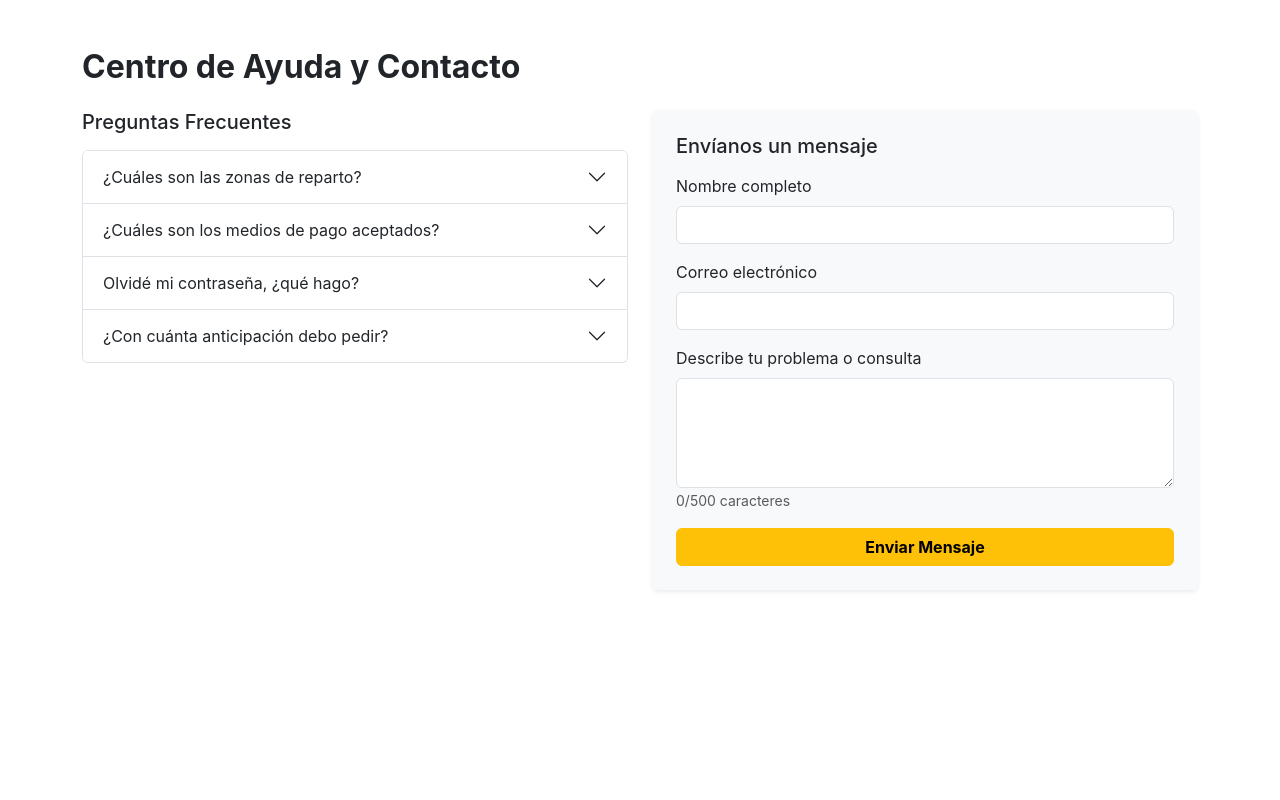
Contact - eventos de envío › al enviar datos válidos se muestra la confirmación y se limpia el formulario
Type "María Pérez" into the field labelled "Nombre completo" at [925, 225], box [676, 206, 1174, 244]
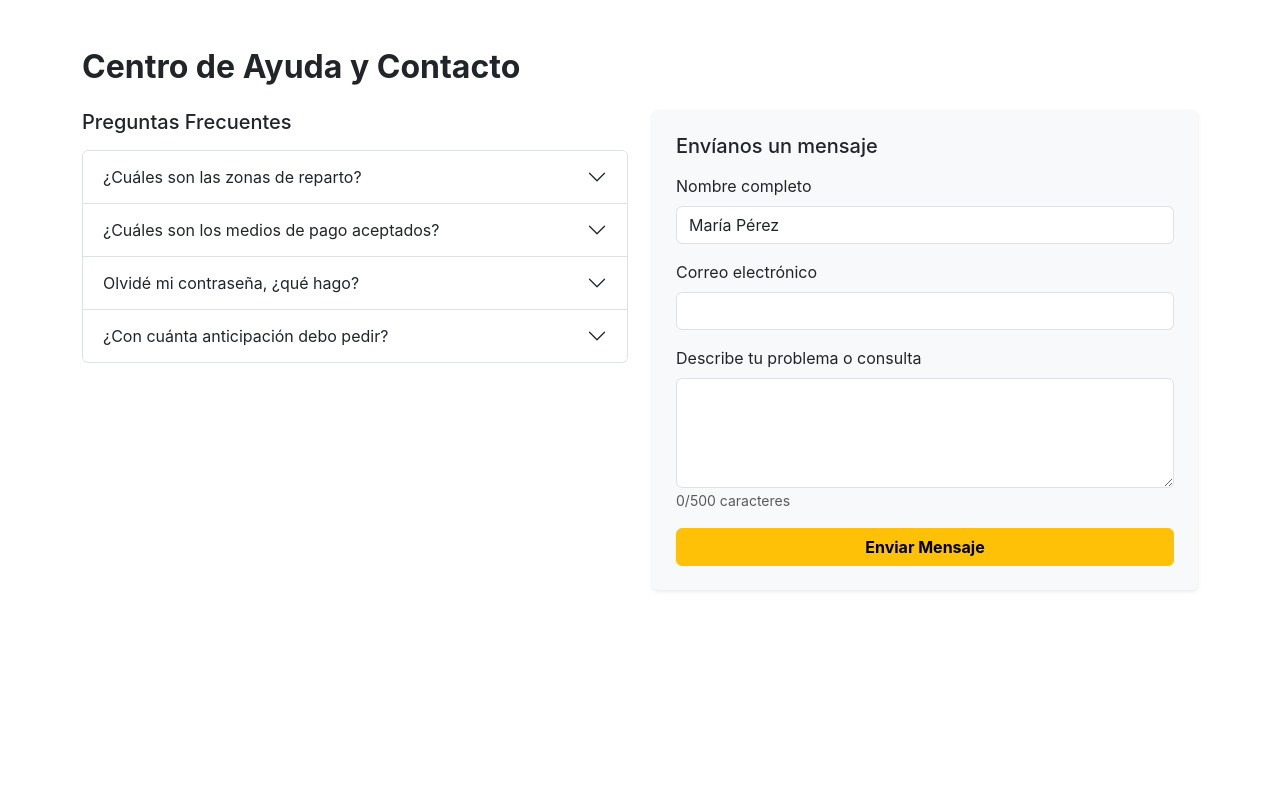
Type "maria@correo.cl" into the field labelled "Correo electrónico" at [925, 311], box [676, 292, 1174, 330]
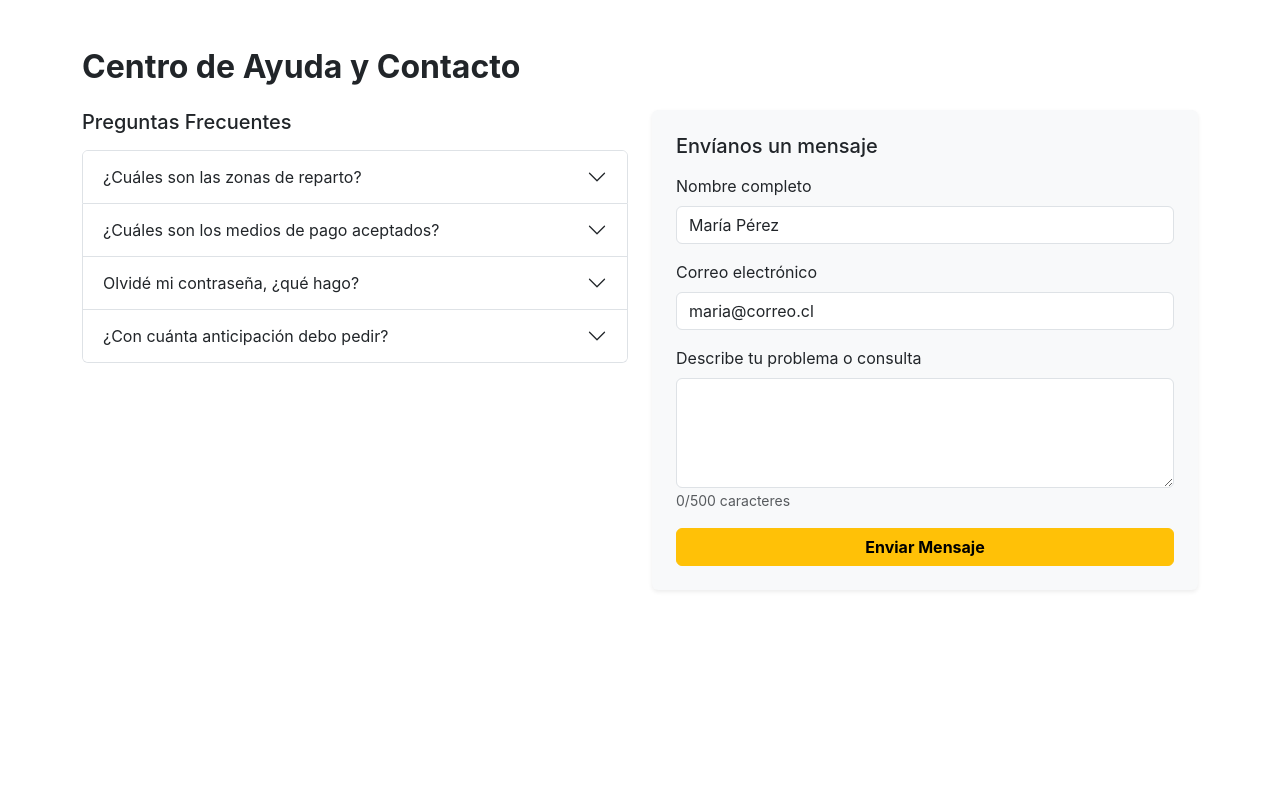
Type "Necesito recargar mi cilindro." into the text box labelled "Describe tu problema o consulta" at [925, 433], box [676, 378, 1174, 488]
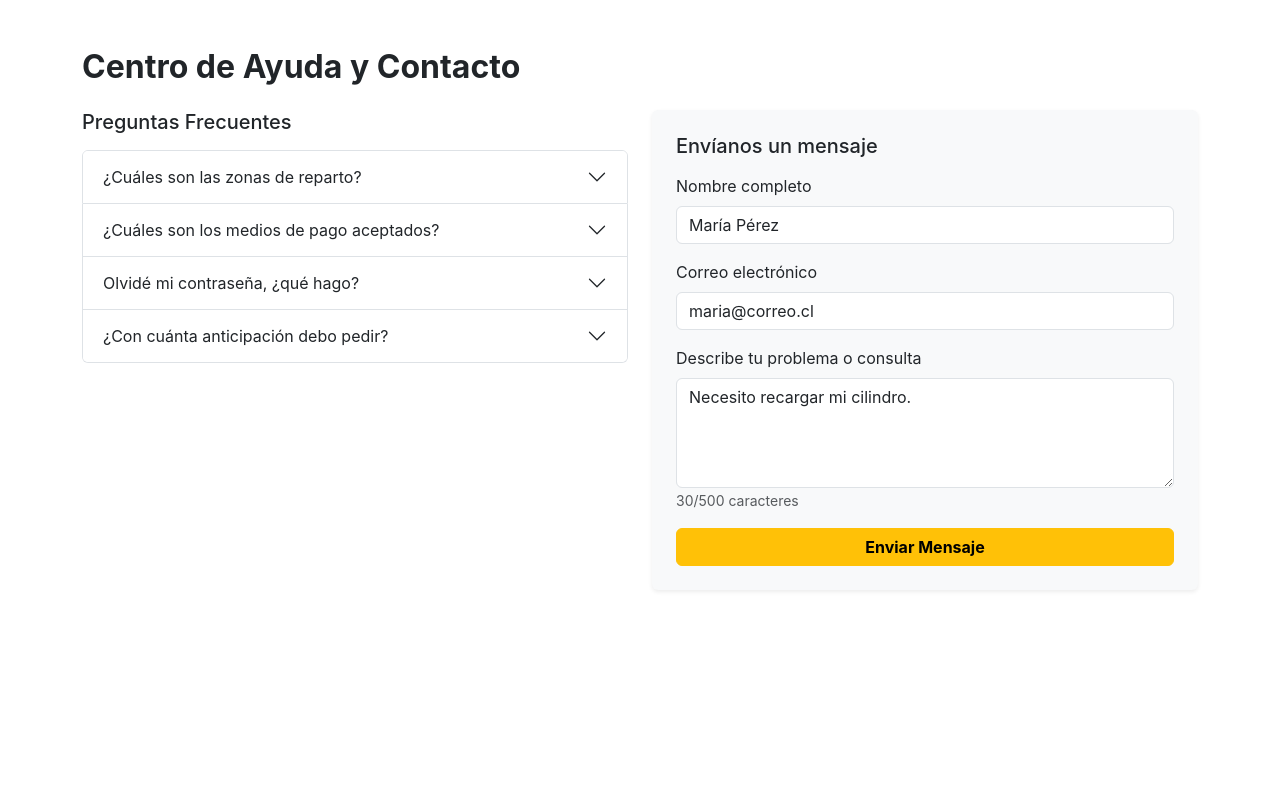
Click the button "Enviar Mensaje" at [925, 547], box [676, 528, 1174, 566]
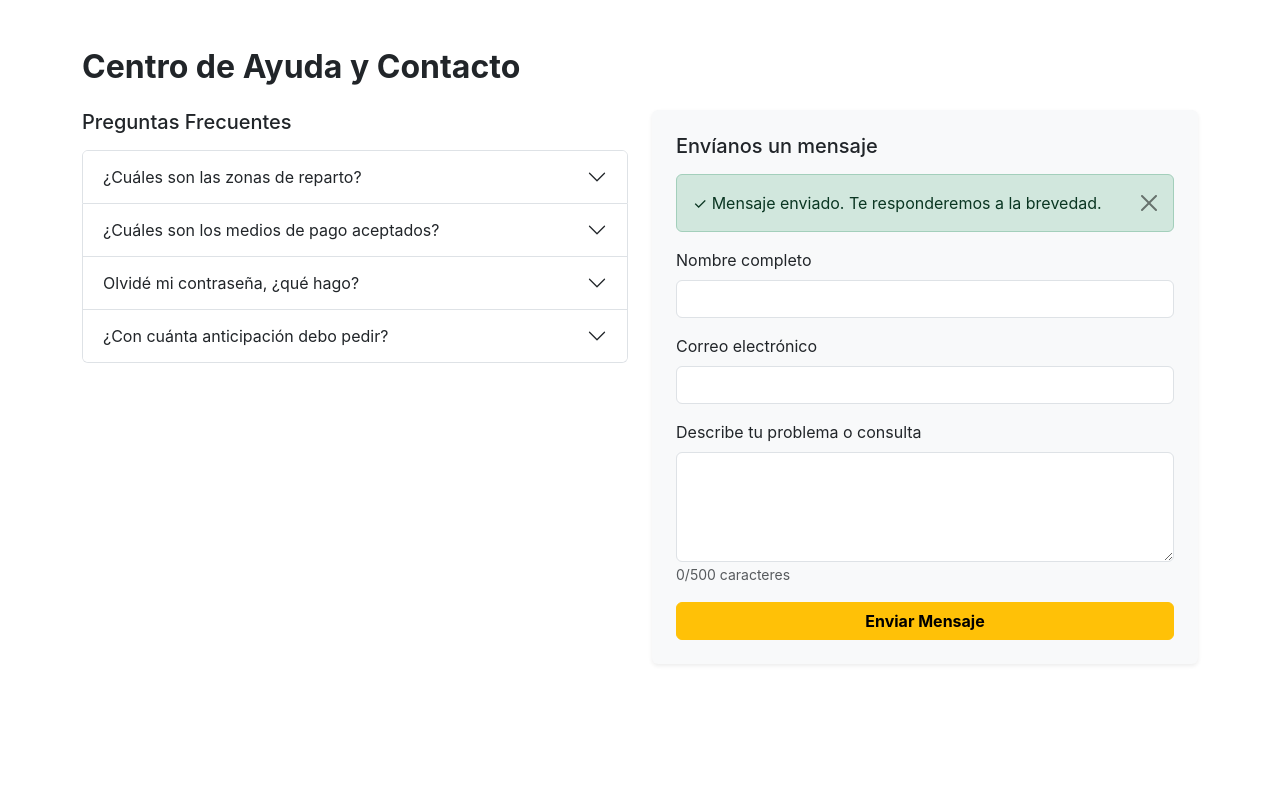
Check: the text "0/500 caracteres" is shown, box [676, 566, 790, 583]
Check: the text "✓ Mensaje enviado. Te responderemos a la brevedad." is shown, box [676, 174, 1174, 232]
